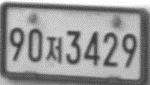0: (26, 27, 43, 62)
2: (102, 31, 119, 68)
3: (65, 29, 80, 64)
4: (81, 30, 100, 67)
9: (121, 32, 138, 67), (9, 26, 24, 61)
저: (44, 35, 62, 63)
